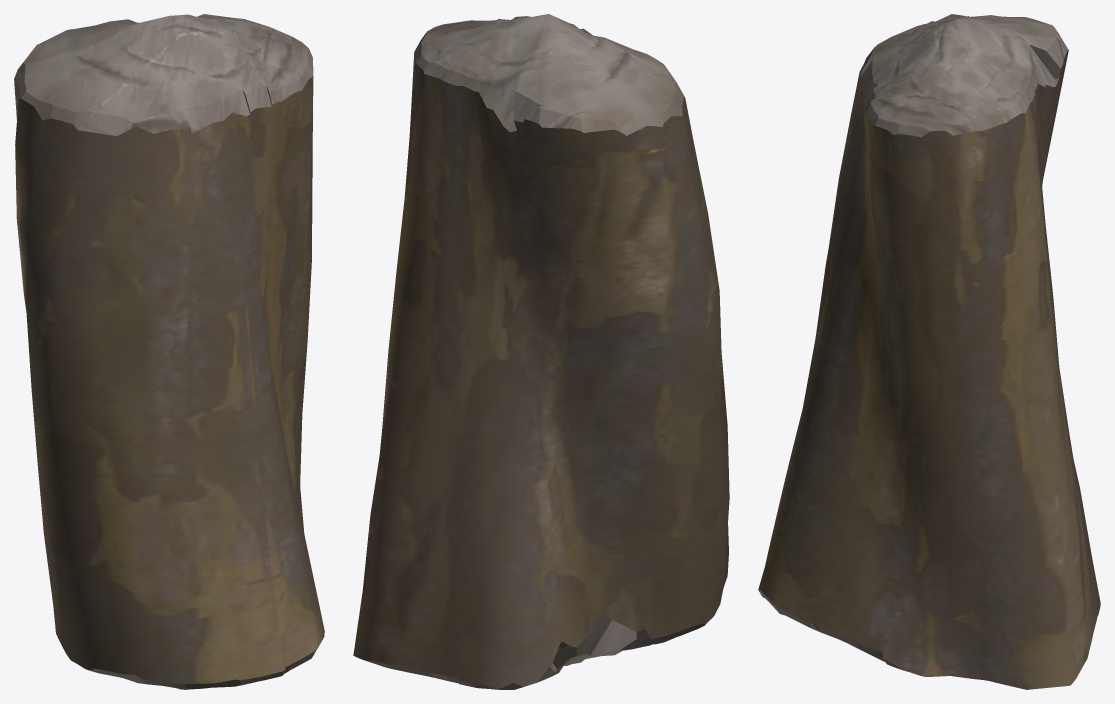
3 renders of one model, left to right at view 1: azimuth 30°, elevation 25°; view 2: azimuth 150°, elevation 25°; view 3: azimuth 270°, elevation 25°, orthographic. The views are drawn at different scales.
Parts seen in each view (by area): view 1: SM_Yew_01_quarter_01_LOD0; view 2: SM_Yew_01_quarter_01_LOD0; view 3: SM_Yew_01_quarter_01_LOD0.
Part boxes in pixels (left/top/right/bottom): SM_Yew_01_quarter_01_LOD0: left=14, top=14, right=324, bottom=689; SM_Yew_01_quarter_01_LOD0: left=353, top=14, right=729, bottom=689; SM_Yew_01_quarter_01_LOD0: left=758, top=14, right=1100, bottom=689.
Bounding box in the file's own units: 1.04 × 2.24 × 1.1.
Materials: 1 (1 with a texture image).
